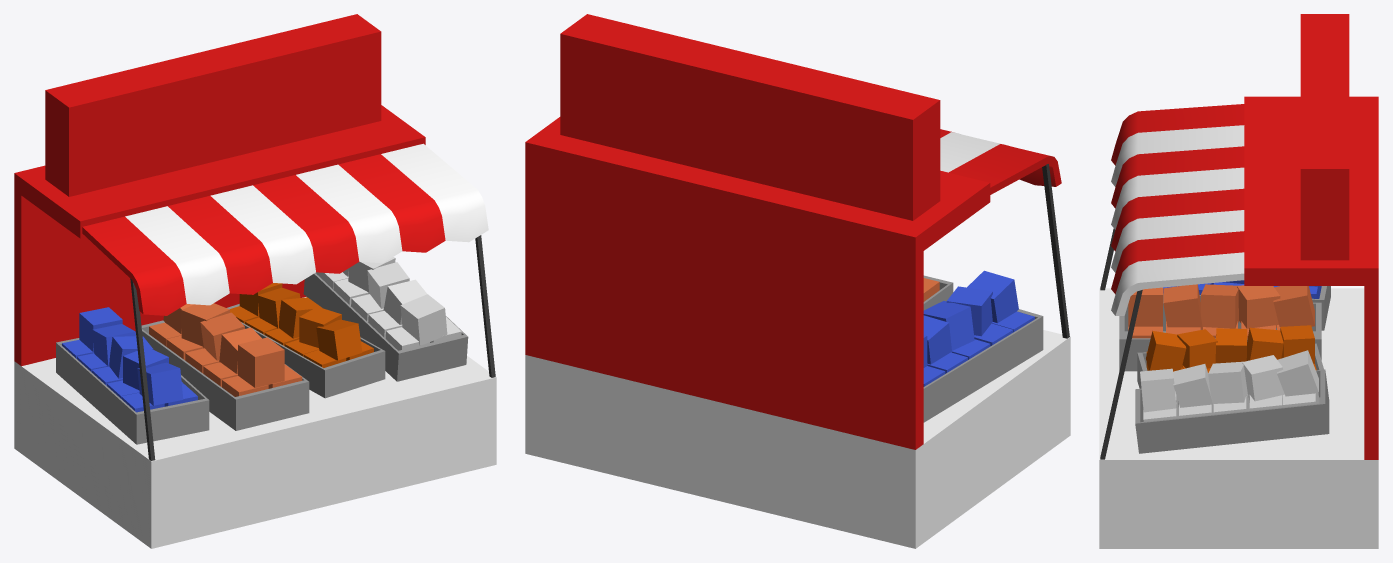
File: Market Buy.fbx
3 views of the same model, side by side, from view 1: azimuth 30°, elevation 25°; view 2: azimuth 150°, elevation 25°; view 3: azimuth 270°, elevation 25° (orthographic). The views are drawn at different scales.
Parts seen in each view (by area): view 1: Market; view 2: Market; view 3: Market.
Boxes of the visible parts, x1,y1,x2,y2 form: Market: (14, 14, 496, 548); Market: (525, 14, 1070, 548); Market: (1099, 14, 1378, 548).
Size of the model in its own units: 3265 by 3298 by 2248.
